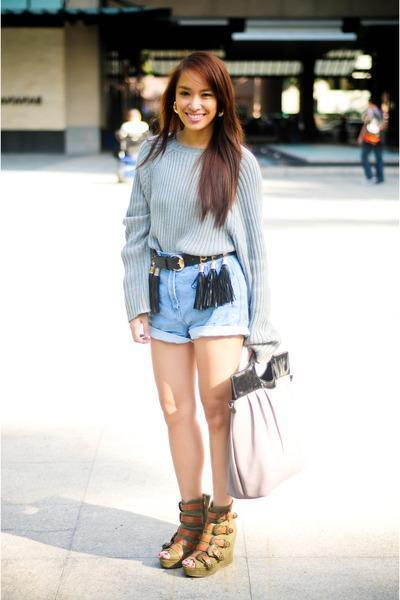Shorts: (138, 246, 248, 345)
sweater: (122, 141, 272, 347)
